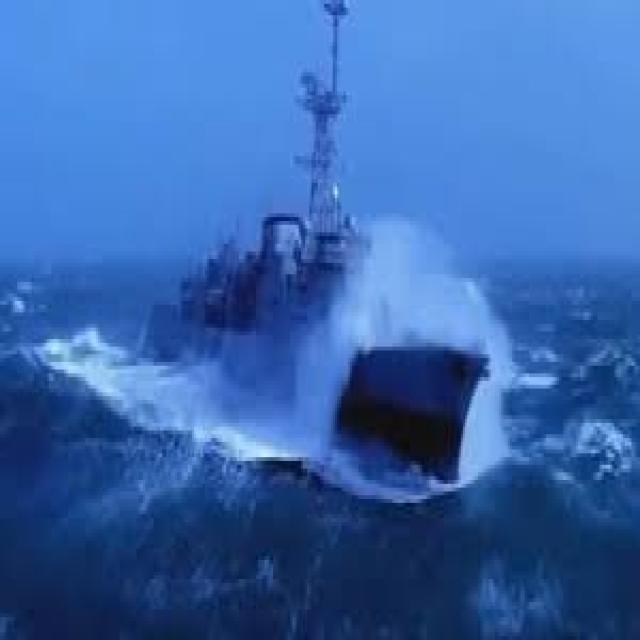navalvessels: (141, 0, 528, 492)
